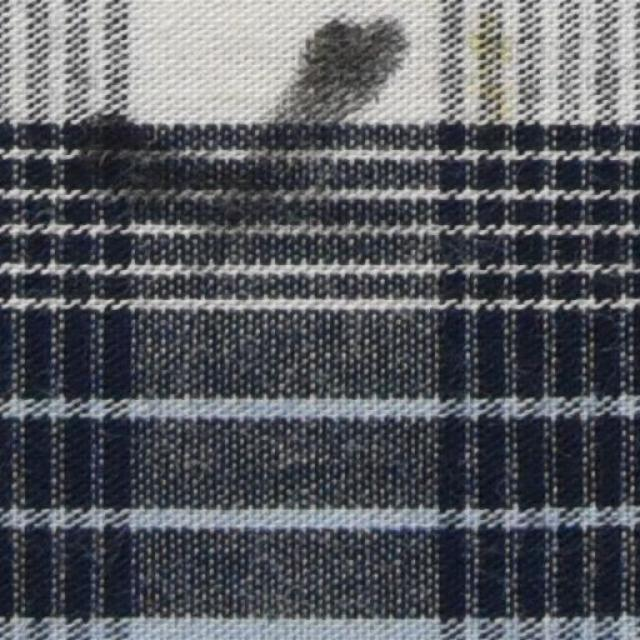Stain: (72, 14, 410, 240), (458, 9, 533, 127)
